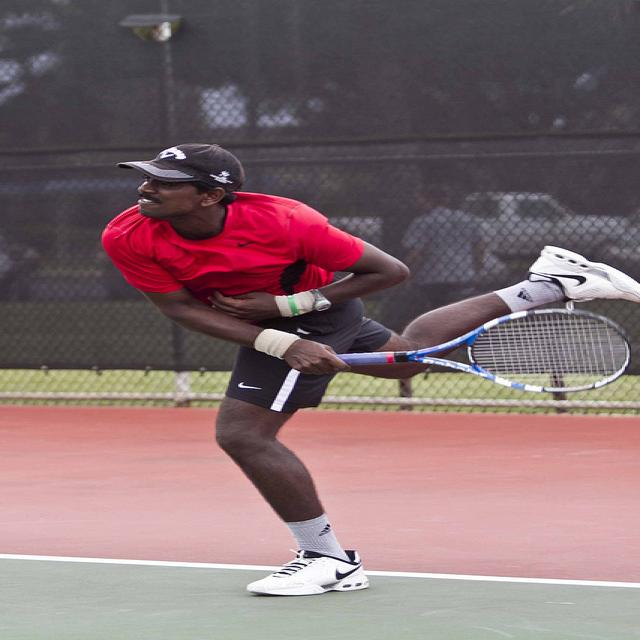Vehicle: (329, 192, 640, 264)
